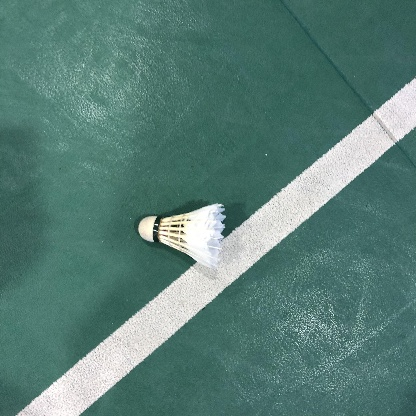ball_single: (139, 203, 226, 269)
